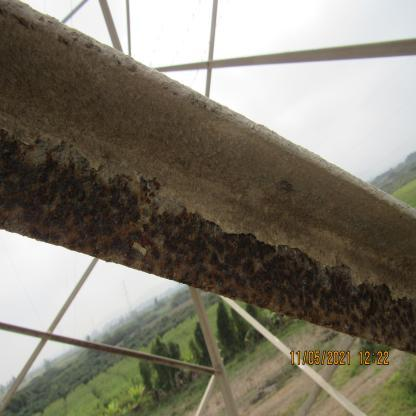rust: (0, 127, 415, 355)
